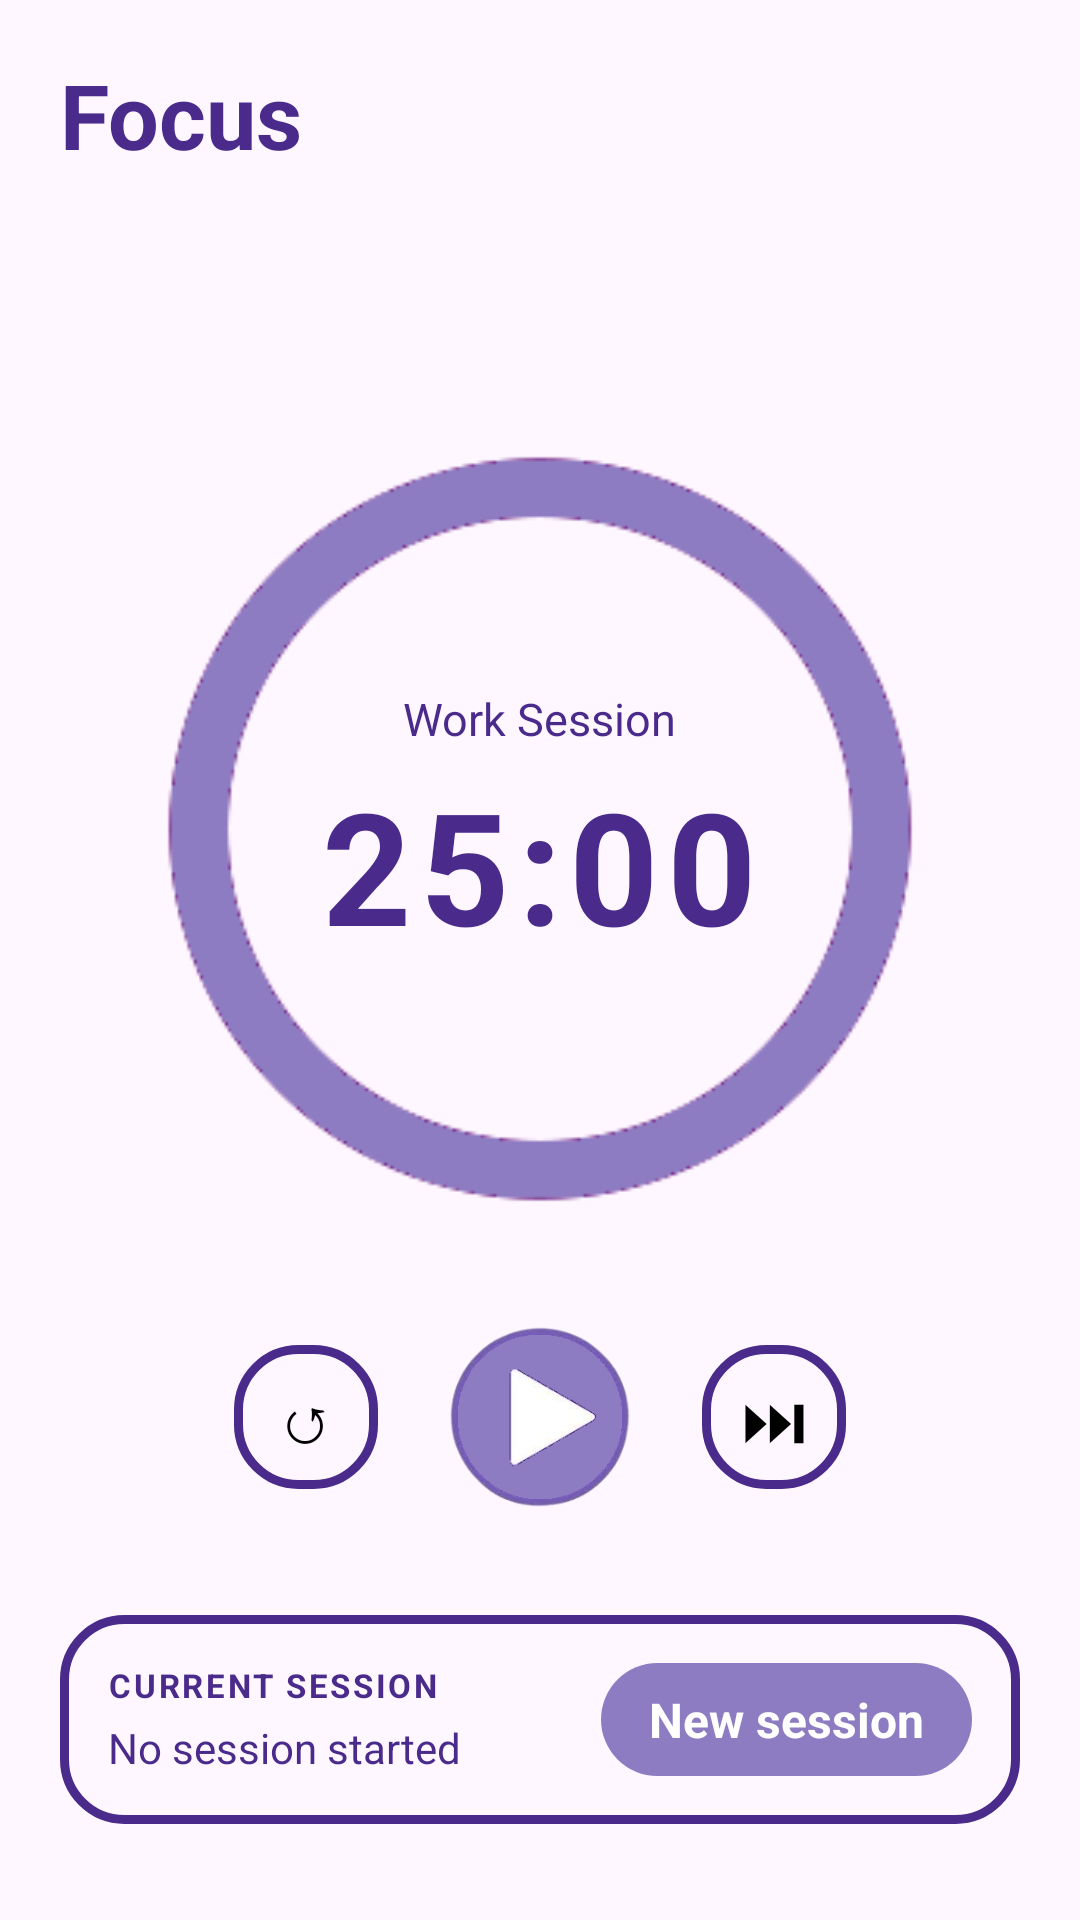

Where icons sit on this 1080w x 1920h app screen, as {"x1": x1, "y1": y1, "x2": x2, "y2": y2}:
play: {"x1": 451, "y1": 1328, "x2": 629, "y2": 1506}
